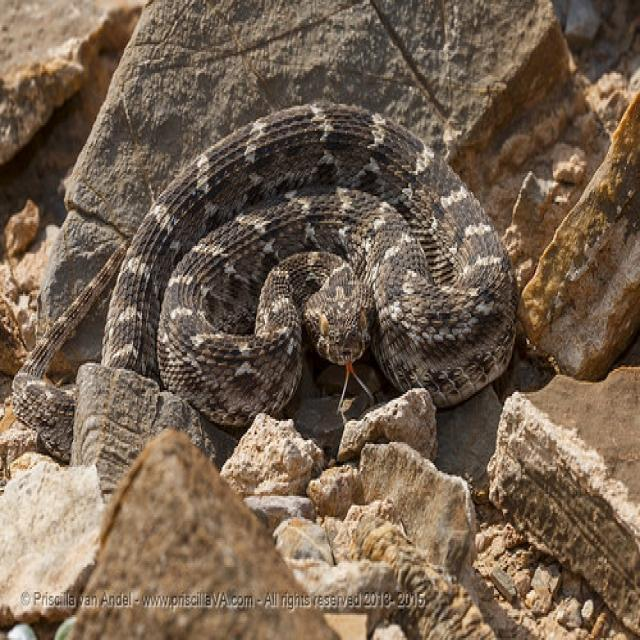Snake: (11, 98, 518, 502)
